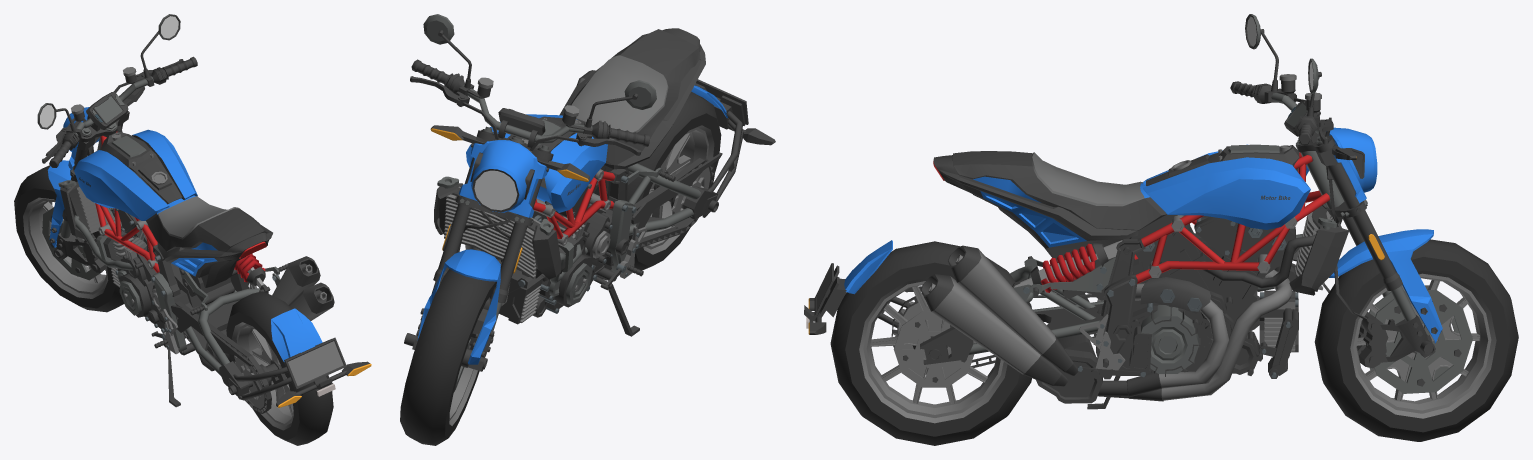
The model's file is motor.fbx.
The picture shows the model from 3 angles, left to right: view 1: azimuth 30°, elevation 25°; view 2: azimuth 150°, elevation 25°; view 3: azimuth 270°, elevation 25°; orthographic projection. The views are drawn at different scales.
Visible parts, largest first — view 1: Body 003_GeomAdjust, Body 004_GeomAdjust, Steer001_GeomAdjust, Wheel_B001_GeomAdjust, Wheel_F001_GeomAdjust; view 2: Body 003_GeomAdjust, Steer001_GeomAdjust, Wheel_F001_GeomAdjust, Body 004_GeomAdjust, Wheel_B001_GeomAdjust, Jack001_GeomAdjust; view 3: Body 003_GeomAdjust, Wheel_F001_GeomAdjust, Wheel_B001_GeomAdjust, Steer001_GeomAdjust, Body 004_GeomAdjust.
Part boxes in pixels (box(x1,y1,x2,y2)): Body 003_GeomAdjust: box(58, 129, 334, 371); Body 004_GeomAdjust: box(152, 253, 371, 413); Steer001_GeomAdjust: box(37, 14, 197, 272); Wheel_B001_GeomAdjust: box(226, 291, 333, 445); Wheel_F001_GeomAdjust: box(14, 165, 124, 312); Body 003_GeomAdjust: box(434, 28, 705, 324); Steer001_GeomAdjust: box(410, 14, 656, 371); Wheel_F001_GeomAdjust: box(400, 269, 496, 445); Body 004_GeomAdjust: box(585, 79, 775, 253); Wheel_B001_GeomAdjust: box(627, 91, 721, 270); Jack001_GeomAdjust: box(593, 276, 639, 336); Body 003_GeomAdjust: box(920, 144, 1349, 403); Wheel_F001_GeomAdjust: box(1314, 239, 1518, 441); Wheel_B001_GeomAdjust: box(830, 241, 1031, 445); Steer001_GeomAdjust: box(1230, 14, 1442, 368); Body 004_GeomAdjust: box(804, 240, 1122, 374).
Bounding box in the file's own units: 52.63 × 86.92 × 140.
